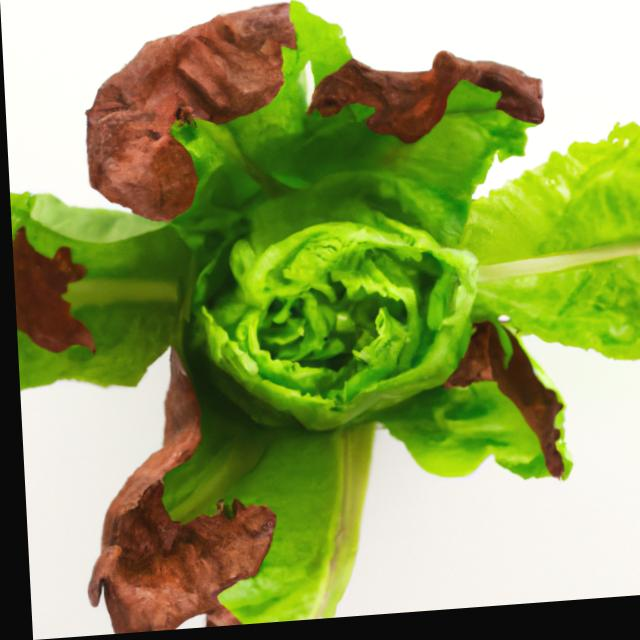-K: (1, 0, 640, 640)
